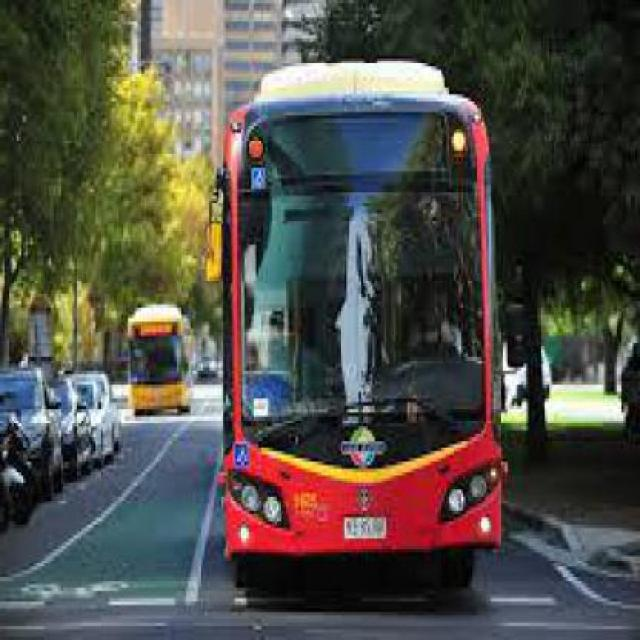bus: (219, 64, 506, 597), (126, 302, 191, 416)
